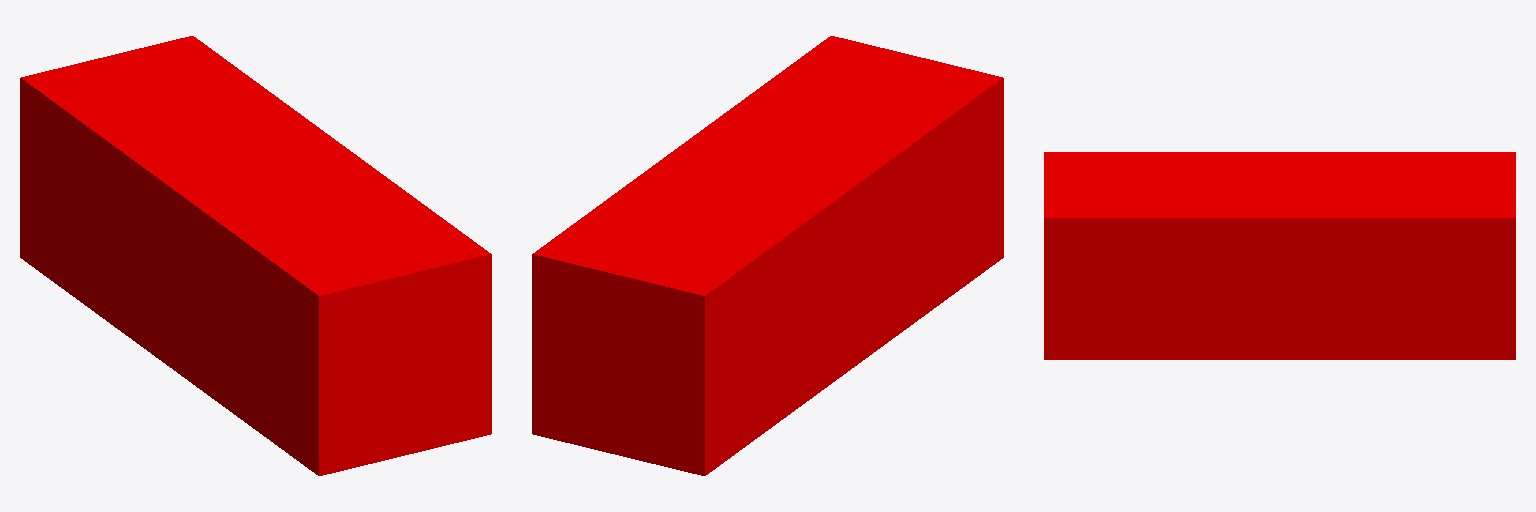
robot.urdf — wall_like:
<robot xmlns:xacro="http://www.ros.org/wiki/xacro" name="wall_like">
  <link name="box">
    <visual>
      <geometry>
        <box size="1 3 1"/>
      </geometry>
      <origin rpy="0 1.5707 0" xyz="0 0 0"/>
      <material name="red">
        <color rgba="1 0 0 1"/>
      </material>
    </visual>
    <collision>
      <geometry>
        <box size="1 3 1"/>
      </geometry>
      <origin rpy="0 1.5707 0" xyz="0 0 0"/>
    </collision>
    <inertial>
      <mass value="20"/>
      <inertia ixx="0.0" ixy="0" ixz="0" iyy="0.0" iyz="0" izz="0.0"/>
    </inertial>
  </link>
</robot>

--- Render facts (derived) ---
The picture shows the robot from 3 angles, left to right: view 1: azimuth 30°, elevation 25°; view 2: azimuth 150°, elevation 25°; view 3: azimuth 270°, elevation 25°; orthographic projection.
Robot: wall_like — 1 links, 0 joints (none); root link box; default pose: every joint at zero.
Visible links, largest first — view 1: box; view 2: box; view 3: box.
Boxes of the visible links, <box> form: box: <box>20,36,491,475</box>; box: <box>532,36,1003,475</box>; box: <box>1044,152,1515,359</box>.
Bounding box of the posed robot: 1 × 3 × 1 m (x, y, z).
Geometry: primitives only (box / cylinder / sphere), no mesh files.